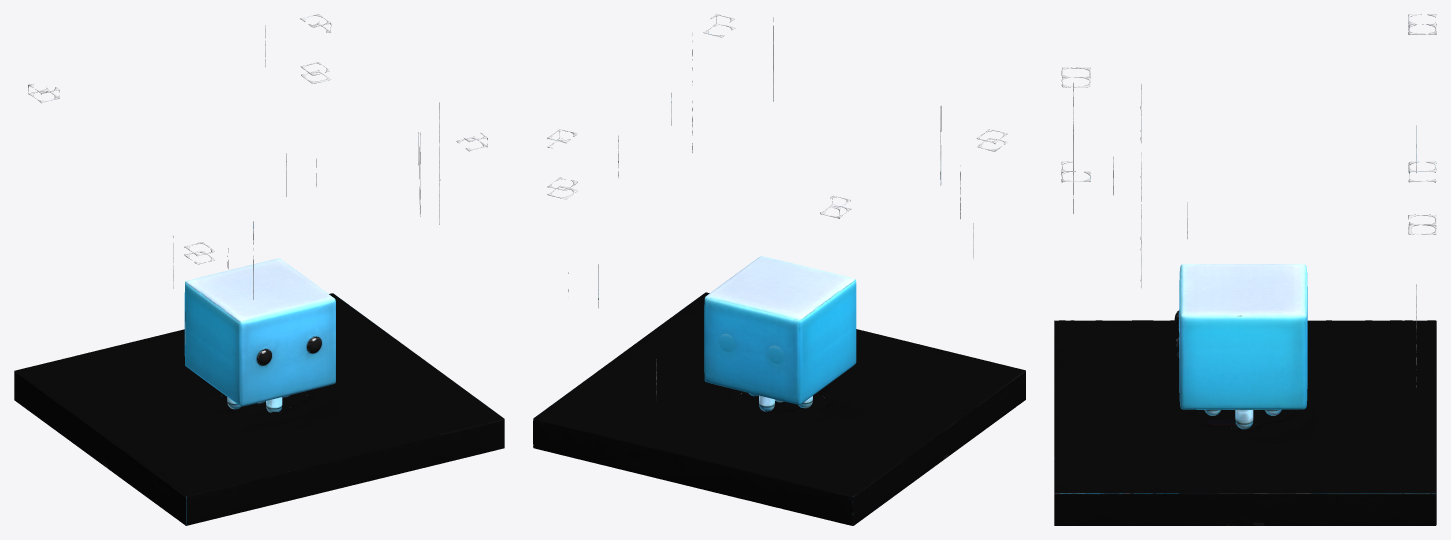
Rendered from asset-collectible-teal.glb.
The picture shows the model from 3 angles, left to right: view 1: azimuth 30°, elevation 25°; view 2: azimuth 150°, elevation 25°; view 3: azimuth 270°, elevation 25°; orthographic projection. The views are drawn at different scales.
Parts seen in each view (by area): view 1: Mesh_0; view 2: Mesh_0; view 3: Mesh_0.
Boxes of the visible parts, <box> form: Mesh_0: <box>14,14,504,525</box>; Mesh_0: <box>533,14,1025,525</box>; Mesh_0: <box>1054,14,1436,525</box>.
Size of the model in its own units: 1.91 by 1.88 by 1.79.
1 material, 1 textured.
